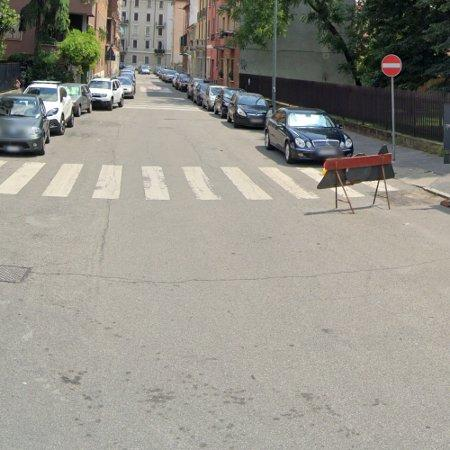crosswalks: (0, 154, 335, 201)
